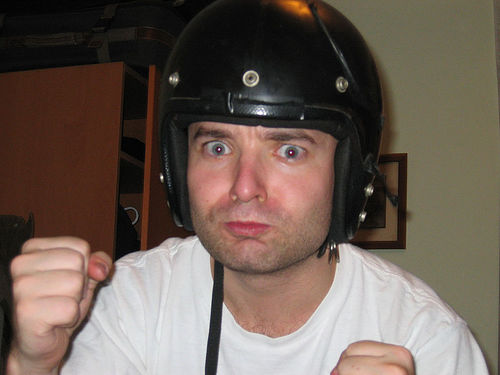helmet: (157, 16, 376, 130)
